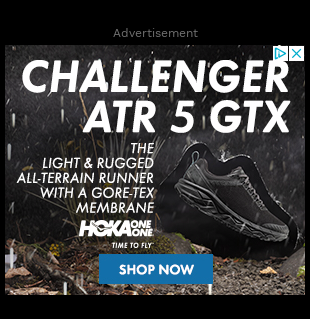fake_button: (96, 251, 216, 289)
